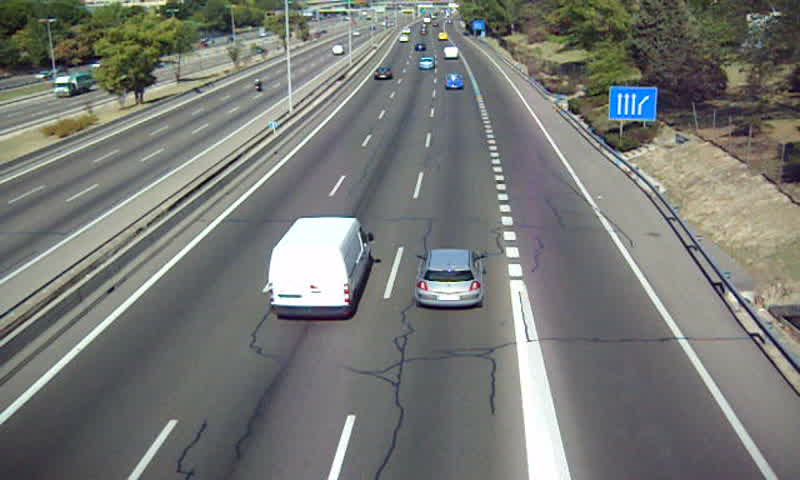car: (416, 249, 482, 308), (443, 72, 466, 92), (371, 68, 394, 82), (418, 56, 435, 71)
van: (268, 217, 372, 318)
